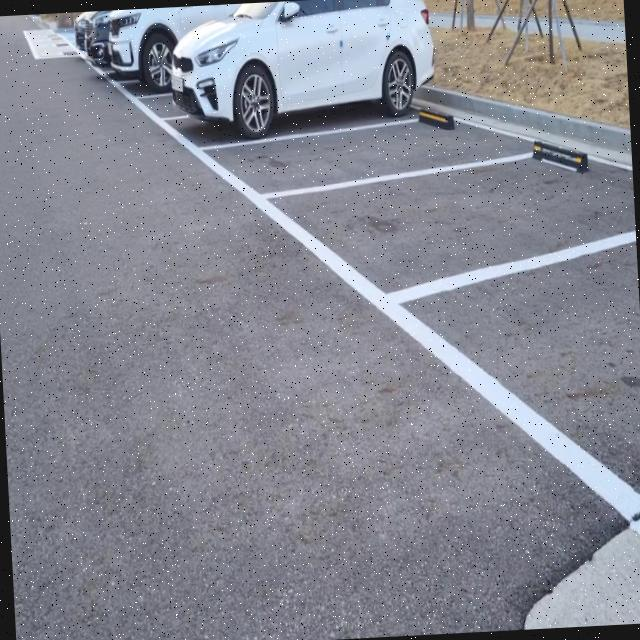Car: (156, 0, 439, 159), (104, 7, 180, 116)
Vacant: (252, 143, 639, 324), (197, 106, 541, 203)
